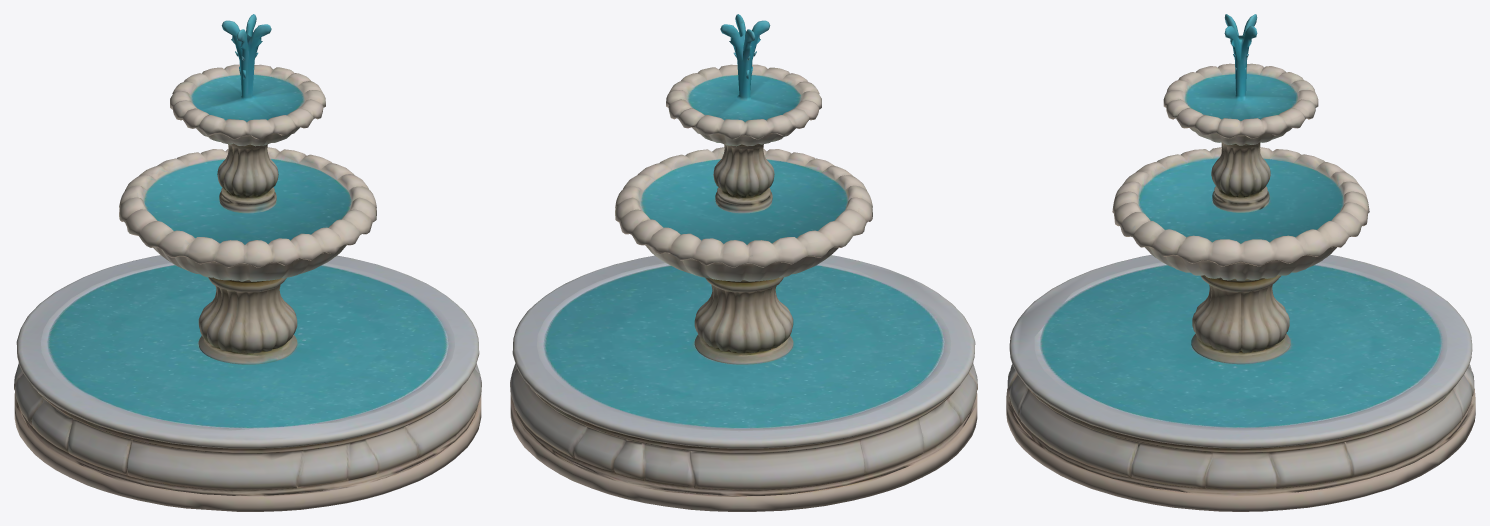
The model's file is fountain.glb.
3 renders of one model, left to right at view 1: azimuth 30°, elevation 25°; view 2: azimuth 150°, elevation 25°; view 3: azimuth 270°, elevation 25°, orthographic.
Visible parts, largest first — view 1: material; view 2: material; view 3: material.
Boxes of the visible parts, left/top/right/bottom form: material: left=14, top=14, right=481, bottom=511; material: left=510, top=14, right=977, bottom=511; material: left=1006, top=14, right=1475, bottom=511.
Bounding box in the file's own units: 1.9 × 1.75 × 1.9.
1 material, 1 textured.
